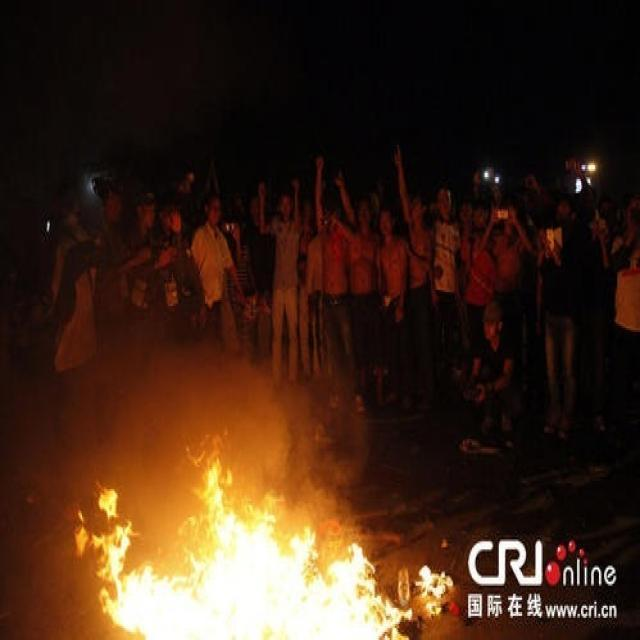Fire: (74, 424, 453, 640)
Smoke: (120, 354, 350, 582)
